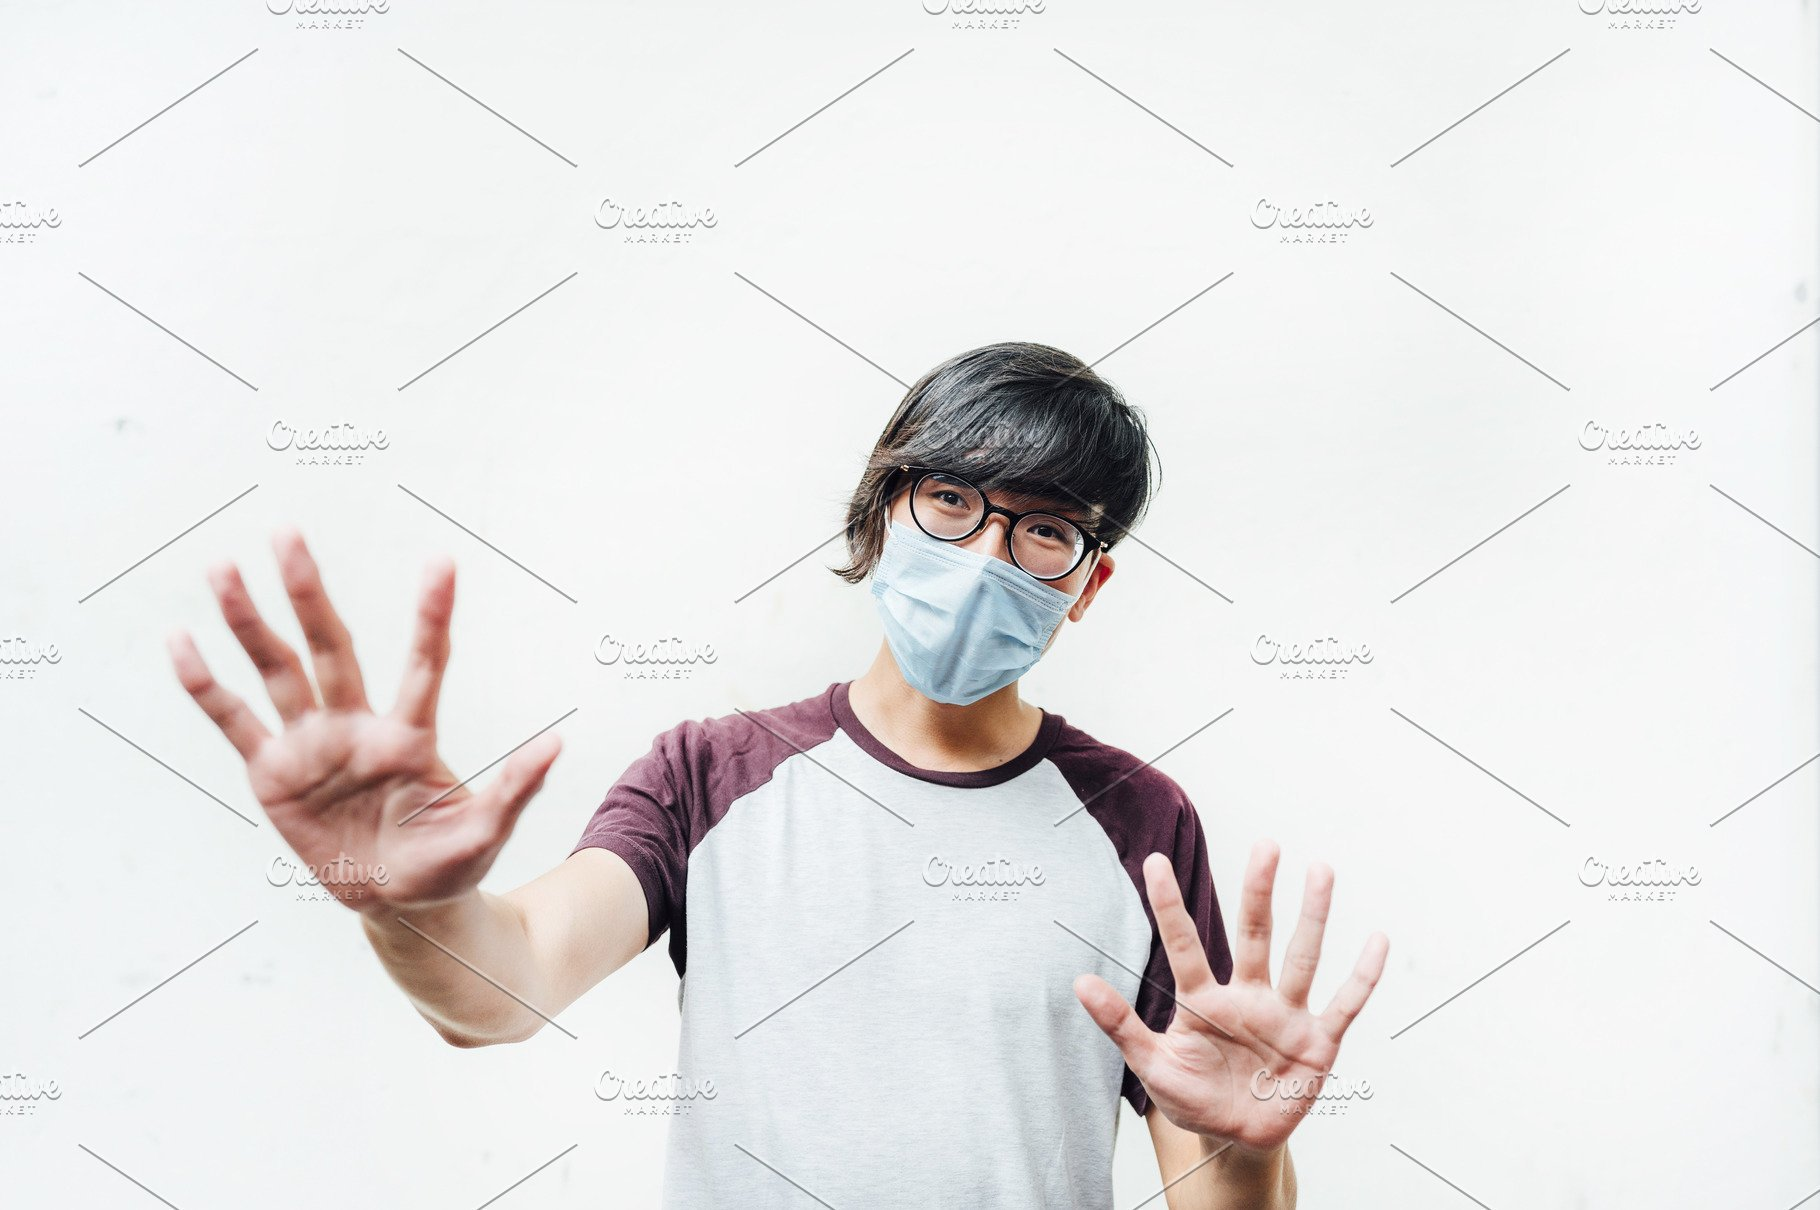mask: (794, 320, 1217, 780)
